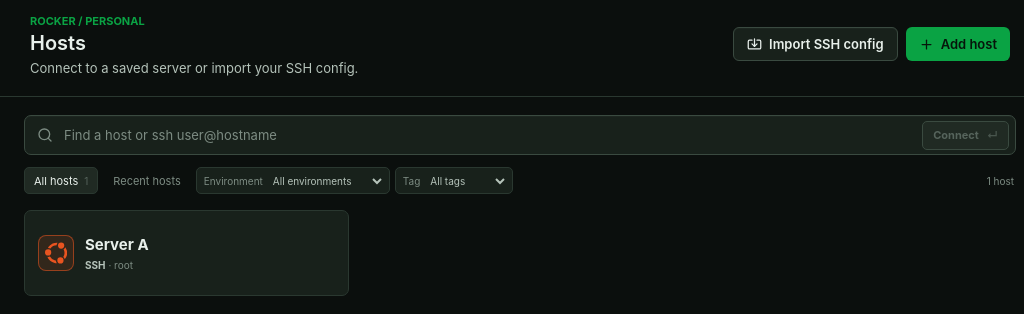
Test: HostList › runs edit from the host context menu
Right-click the button with aria-label "Server A, SSH, root" at (56, 253), box [24, 210, 349, 296]
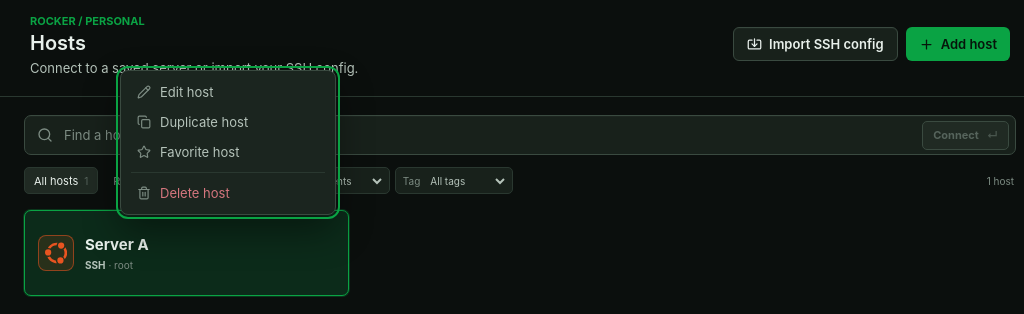
Click the menu item "Edit host" at (228, 92), box [127, 77, 329, 107]
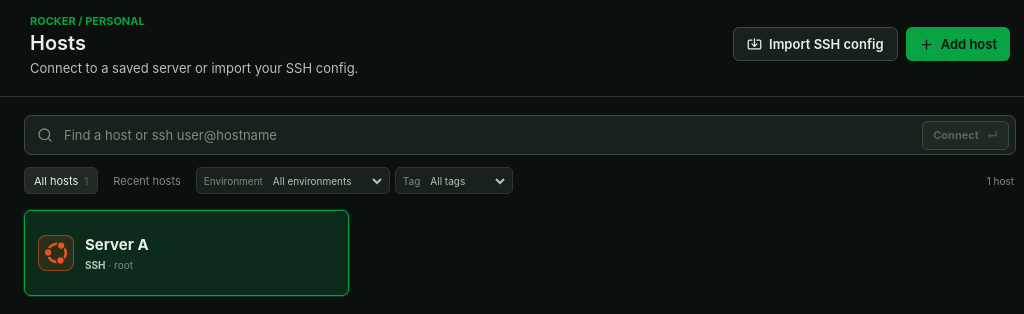
Expected: the menu is gone
